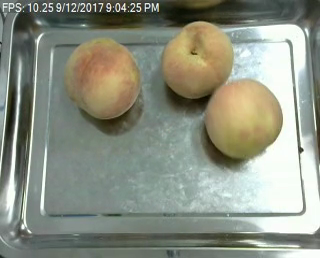Peach: (205, 77, 283, 159), (65, 36, 139, 118), (160, 20, 233, 99)
